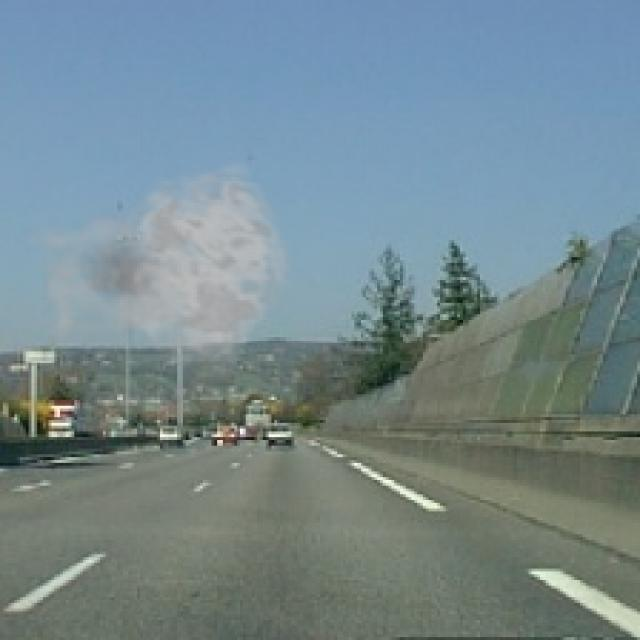Smoke: (22, 160, 294, 380)
